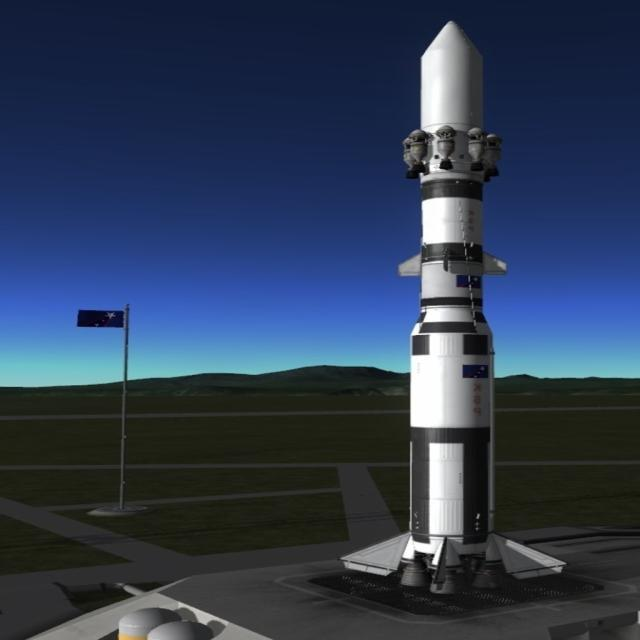missile: (386, 19, 520, 608)
